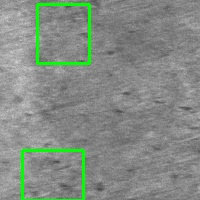rolled-in_scale: (37, 4, 89, 63), (22, 150, 83, 200)
